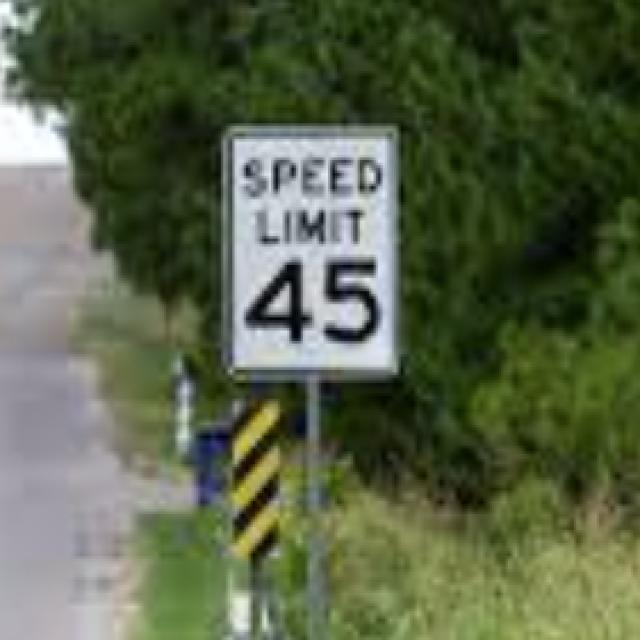speedLimit45: (231, 134, 394, 373)
